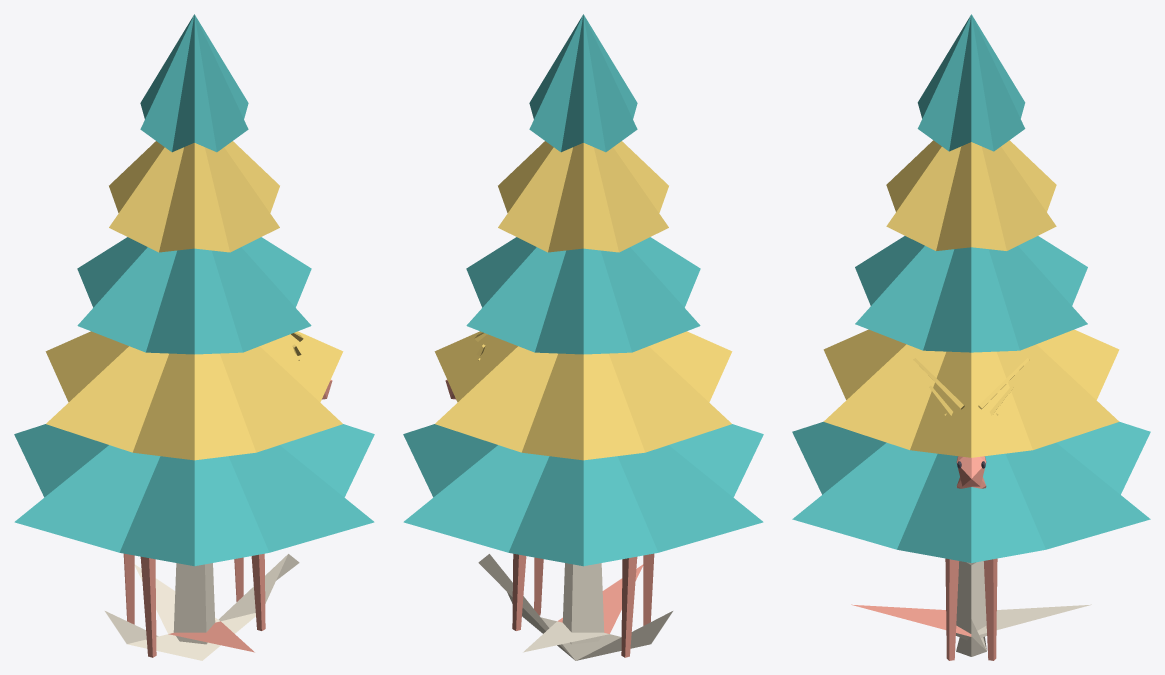
The picture shows the model from 3 angles, left to right: view 1: azimuth 30°, elevation 25°; view 2: azimuth 150°, elevation 25°; view 3: azimuth 270°, elevation 25°; orthographic projection.
Parts seen in each view (by area): view 1: tFan0, tFan1, tFan2, tFan3, tFan4, cBody, tTrunk, dLeg-1-0.75, cWing-1, cWing1, dLeg-10.7, dLeg1-0.75; view 2: tFan0, tFan1, tFan2, tFan3, tFan4, tTrunk, cBody, dLeg1-0.75, cWing1, cWing-1, dLeg10.7, dLeg-1-0.75; view 3: tFan0, tFan1, tFan2, tFan3, tFan4, tTrunk, dLeg-10.7, dLeg10.7, cWing-1, cWing1, dHead, cBody.
Boxes of the visible parts, box(x1,y1,x2,y2) form: tFan0: box(14, 424, 374, 566); tFan1: box(45, 331, 343, 460); tFan2: box(77, 237, 311, 354); tFan3: box(109, 141, 279, 252); tFan4: box(140, 14, 248, 152); cBody: box(105, 554, 299, 660); tTrunk: box(173, 563, 215, 644); dLeg-1-0.75: box(140, 556, 156, 657); cWing-1: box(168, 621, 254, 652); cWing1: box(134, 564, 220, 633); dLeg-10.7: box(251, 553, 265, 630); dLeg1-0.75: box(123, 553, 134, 624); tFan0: box(403, 424, 763, 566); tFan1: box(434, 331, 732, 460); tFan2: box(466, 237, 700, 354); tFan3: box(498, 141, 668, 252); tFan4: box(529, 14, 637, 152); tTrunk: box(562, 563, 604, 644); cBody: box(478, 554, 672, 660); dLeg1-0.75: box(621, 556, 637, 657); cWing1: box(523, 621, 609, 652); cWing-1: box(557, 564, 643, 633); dLeg10.7: box(512, 553, 526, 630); dLeg-1-0.75: box(643, 553, 654, 625); tFan0: box(792, 421, 1150, 562); tFan1: box(823, 329, 1119, 457); tFan2: box(855, 236, 1087, 352); tFan3: box(886, 140, 1056, 250); tFan4: box(917, 14, 1025, 151); tTrunk: box(956, 561, 986, 640); dLeg-10.7: box(945, 558, 959, 660); dLeg10.7: box(983, 558, 997, 660); cWing-1: box(851, 604, 971, 636); cWing1: box(977, 604, 1091, 634); dHead: box(956, 456, 986, 486); cBody: box(956, 619, 986, 656).
Bounding box in the file's own units: 4.8 × 8.15 × 4.16.
